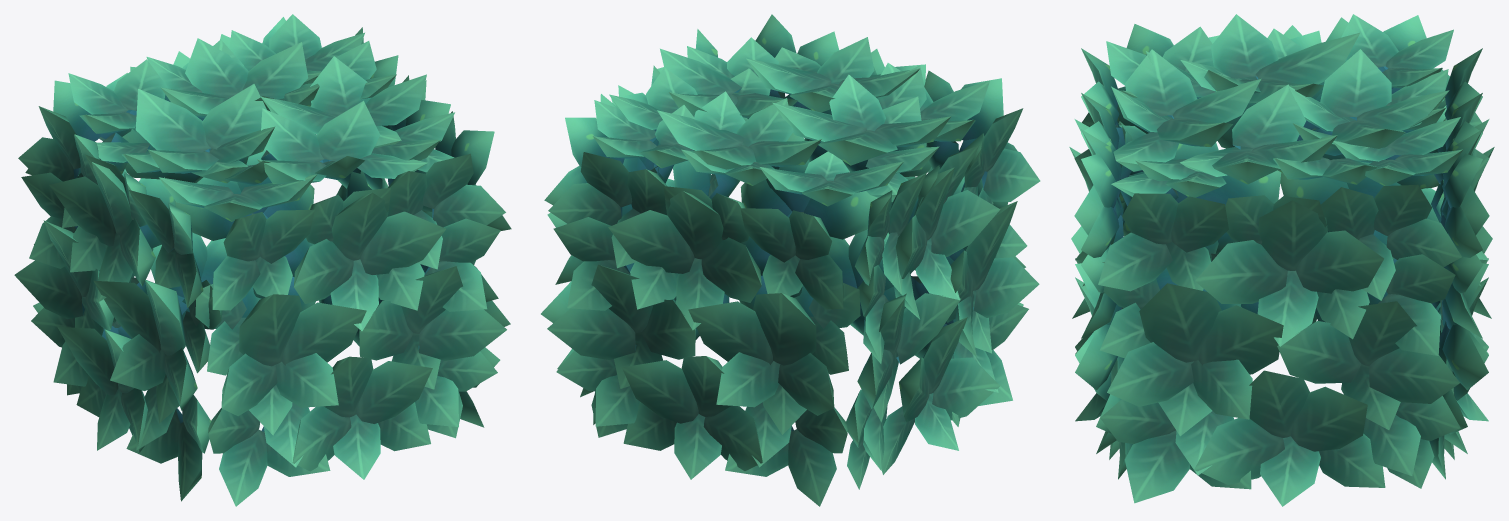
File: bush_b.FBX
3 views of the same model, side by side, from view 1: azimuth 30°, elevation 25°; view 2: azimuth 150°, elevation 25°; view 3: azimuth 270°, elevation 25° (orthographic). The views are drawn at different scales.
Parts seen in each view (by area): view 1: Box261; view 2: Box261; view 3: Box261.
Part boxes in pixels (bbox=[...]): Box261: bbox=[14, 14, 511, 506]; Box261: bbox=[541, 14, 1040, 506]; Box261: bbox=[1069, 14, 1494, 506].
Size of the model in its own units: 13.37 by 11.94 by 13.38.
